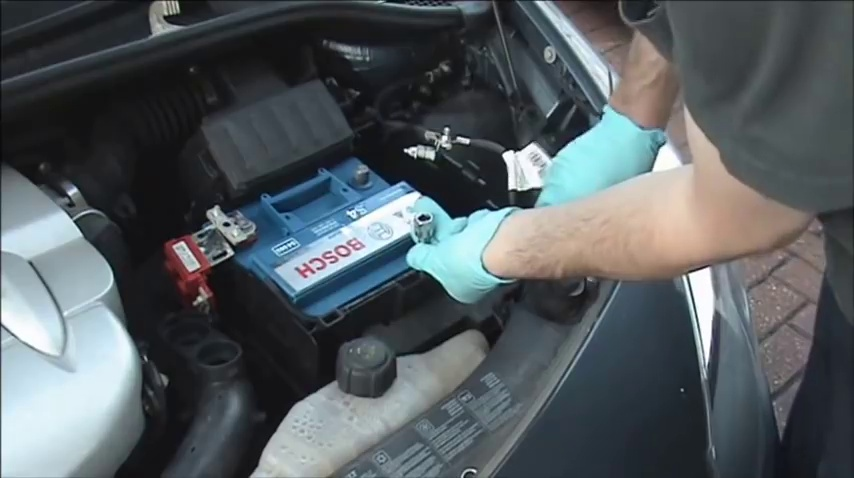battery: (204, 154, 451, 325)
neg_disconnected: (335, 148, 406, 195)
pos_connected: (177, 199, 267, 271)
